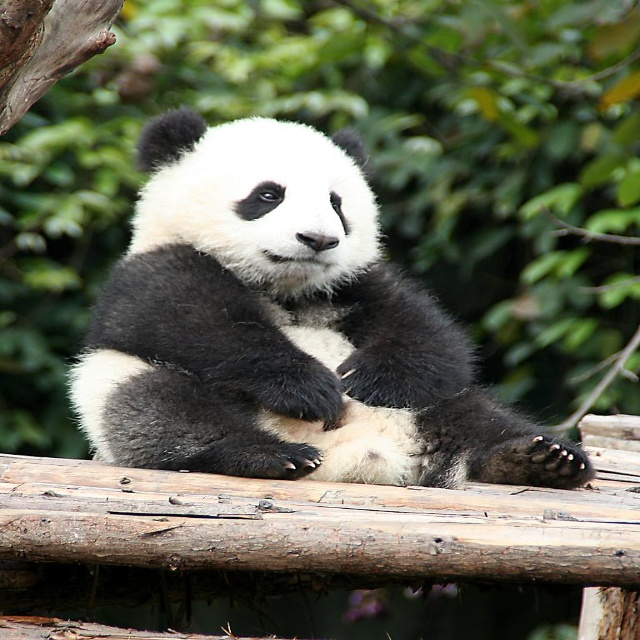Panda: (69, 107, 598, 484)
